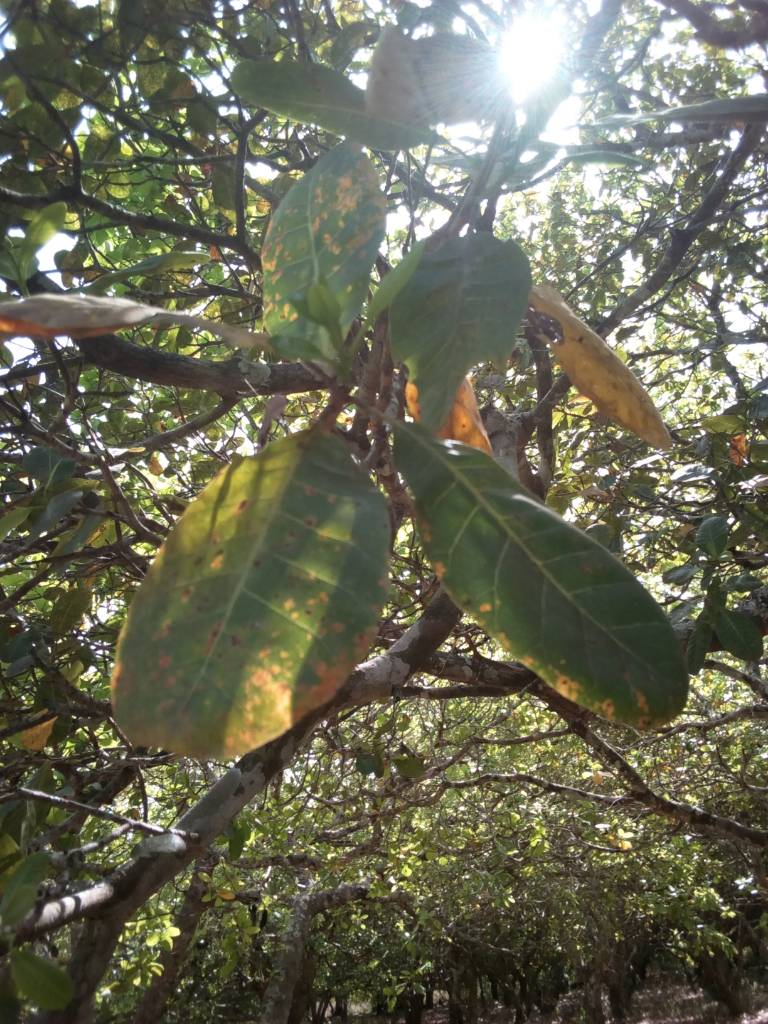Alternariose: (111, 435, 396, 758), (411, 424, 677, 724), (261, 144, 388, 375)
